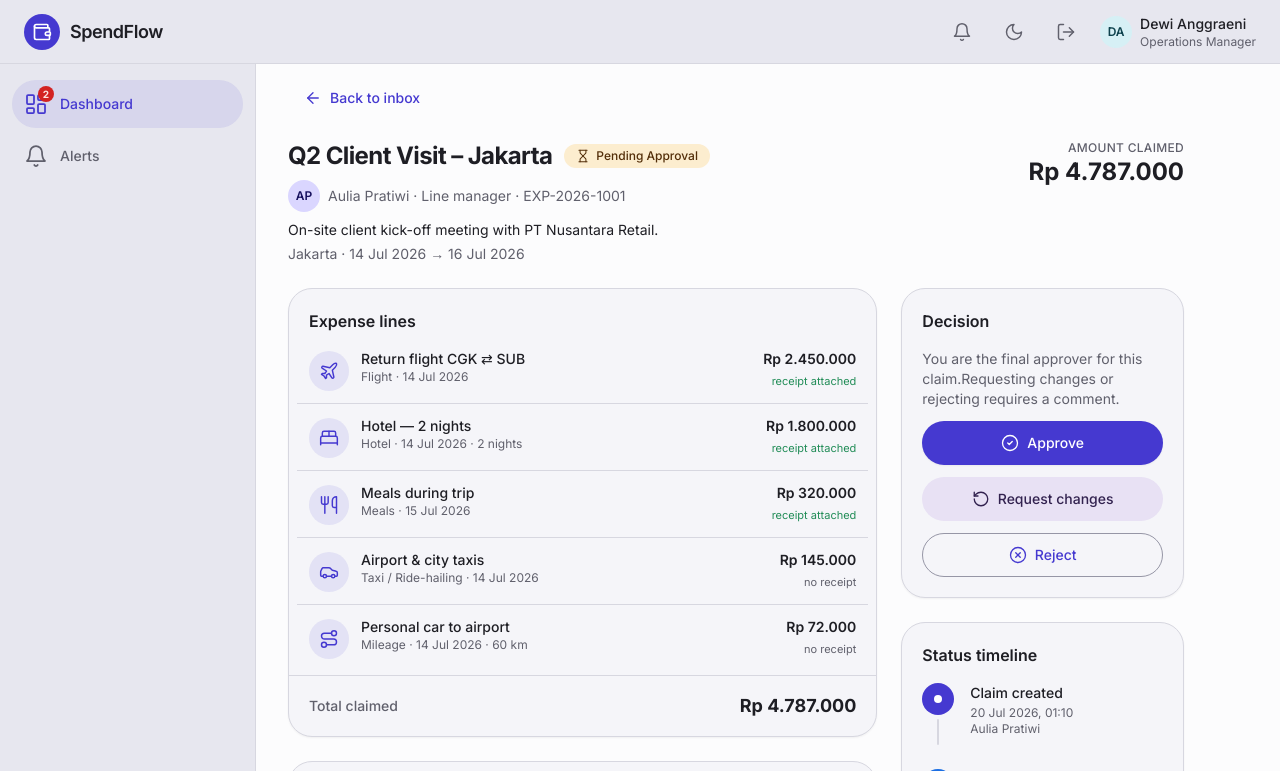
Test: Decision dialogs — approve advances / finalises, validation, conflict › shows a conflict message instead of silently succeeding on an already-decided (stale) claim
This screenshot has width=1280, height=771.
expect the heading "Q2 Client Visit – Jakarta" is shown: met, box [288,140,552,172]
Note: Now attempt to approve from the stale UI.
What coordinates should you click on to do the following:
click the button "Approve"
I would click on:
 (1043, 443)
Its box is [922,421,1163,465].
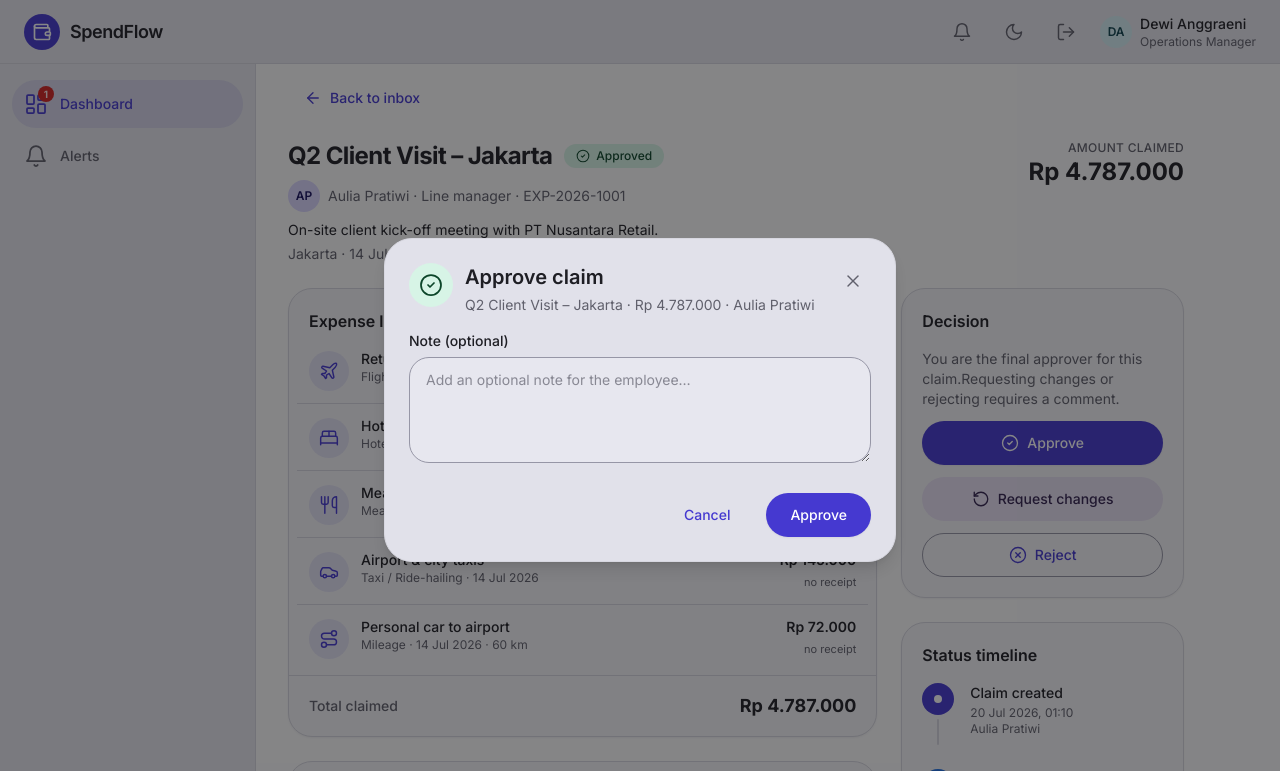
What coordinates should you click on to do the following:
click the button "Approve"
I would click on:
 (819, 515)
Its box is [766,493,871,537].
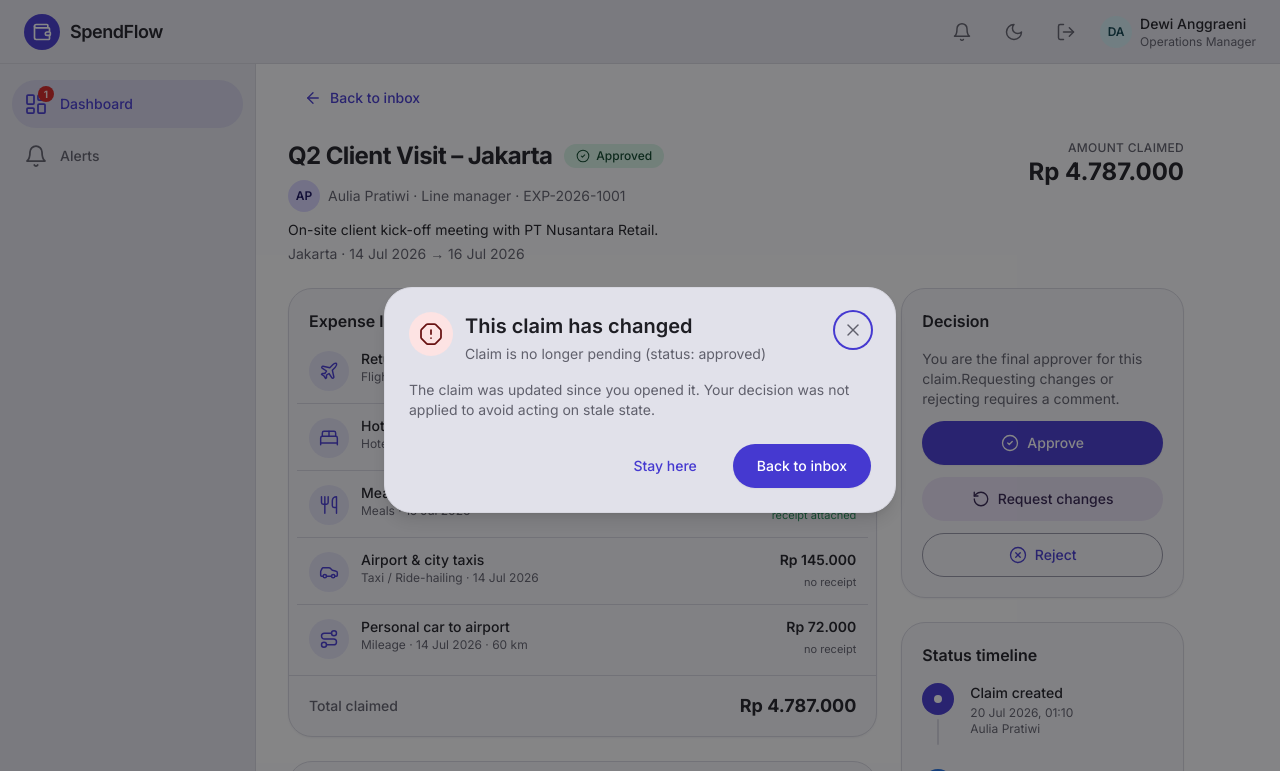
expect the heading "This claim has changed" is shown: met, box [465,314,693,338]
